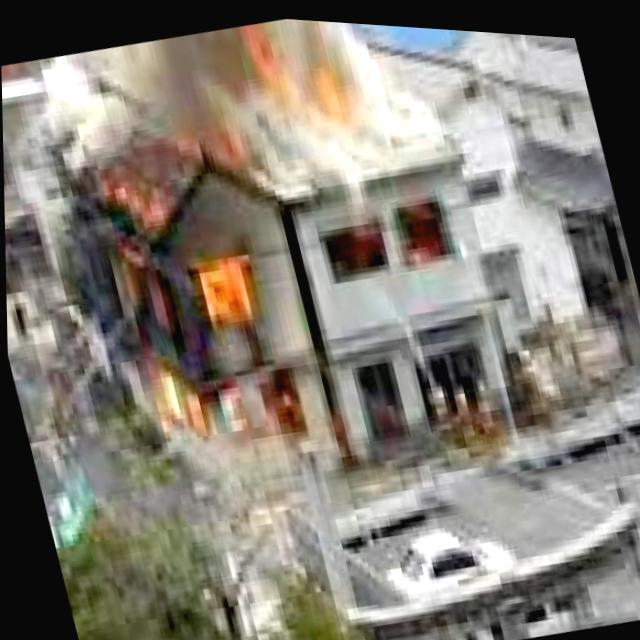fire: (86, 156, 315, 466), (235, 12, 354, 132)
